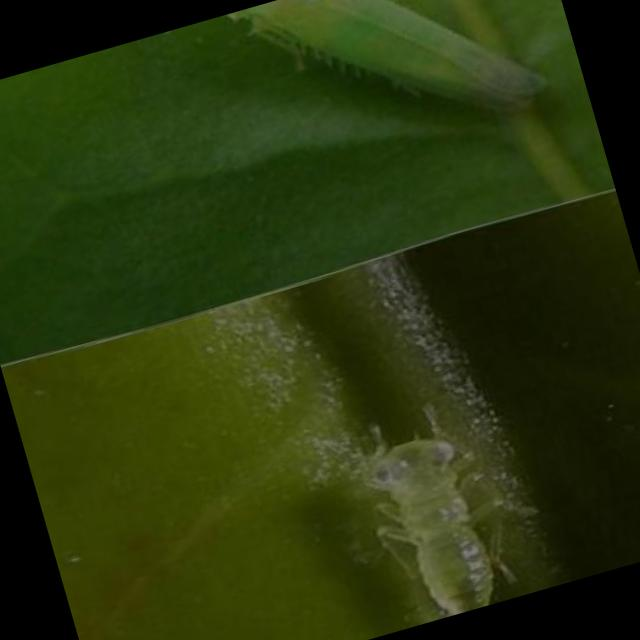green-leafhopper: (292, 397, 545, 640), (237, 0, 548, 167)
